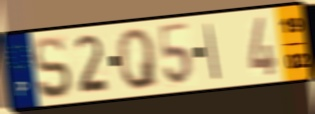2: (76, 32, 112, 97)
4: (248, 14, 279, 78)
5: (156, 20, 195, 89)
I: (204, 22, 222, 82)
Q: (115, 26, 161, 92)
S: (32, 34, 75, 102)
